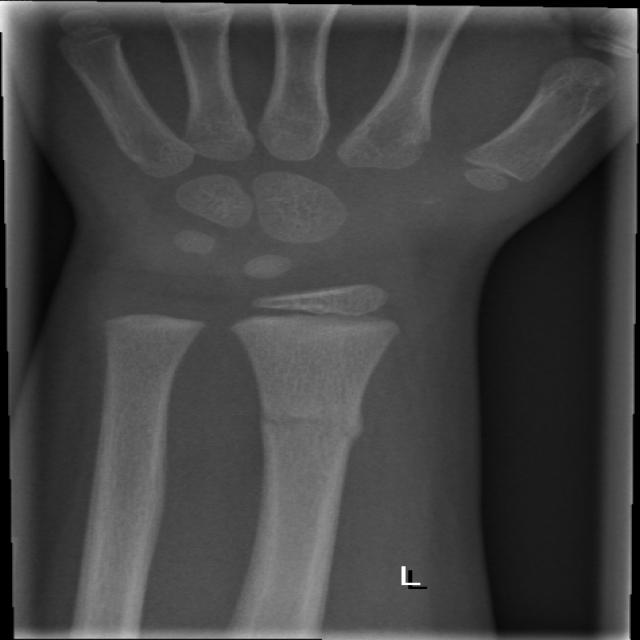radius fracture: (240, 368, 397, 520)
